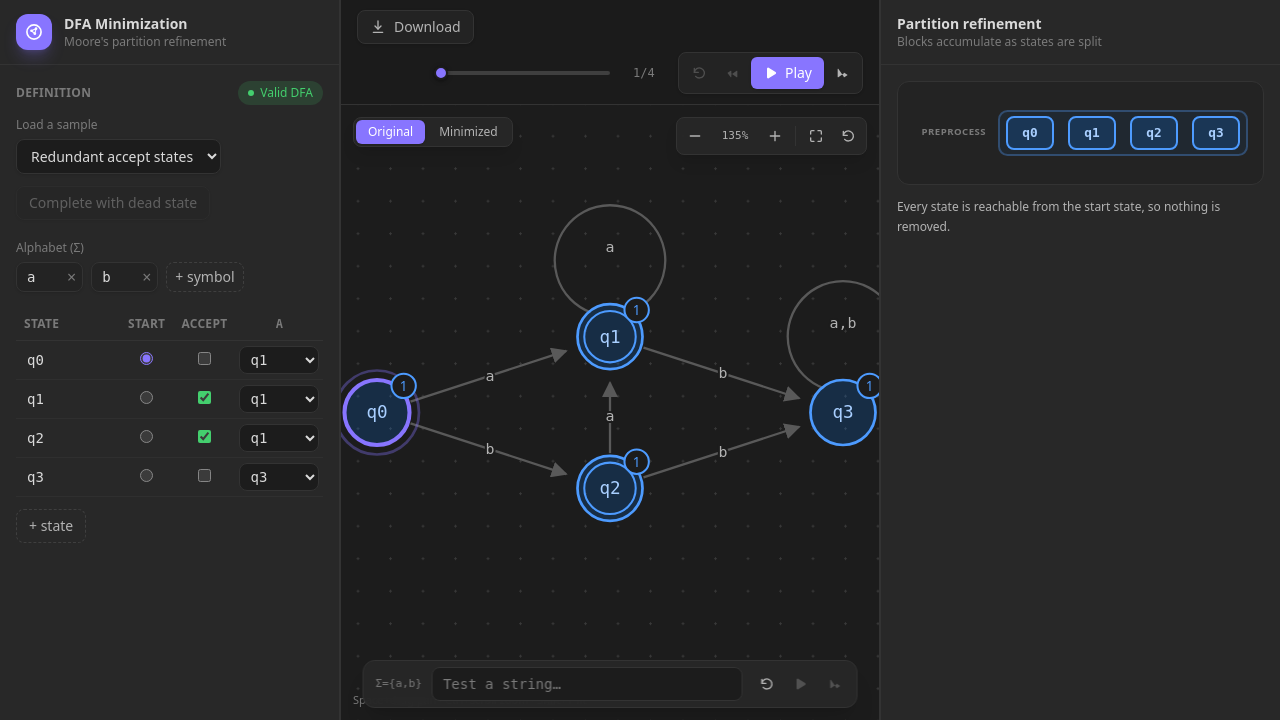
Test: App › switches the graph between the original and minimized DFA
Click the button "Minimized": click(468, 132) [427,120,510,144]
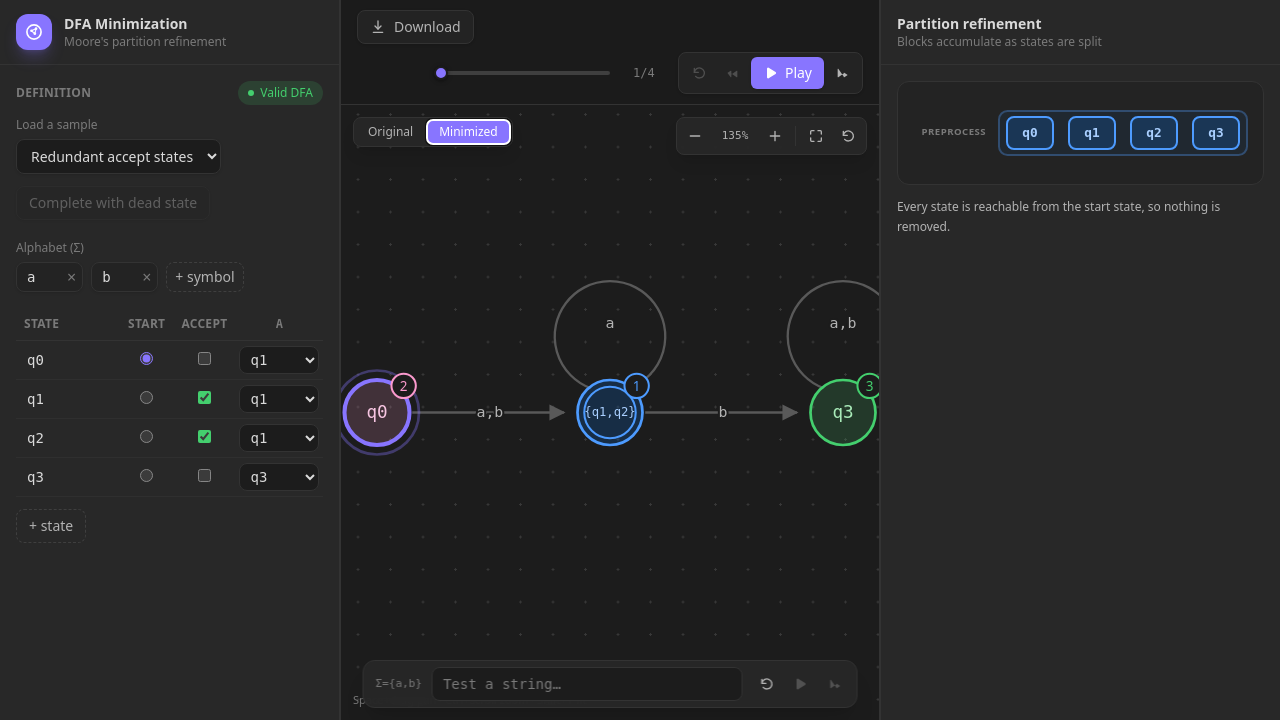
Result: the picture named "Minimized state diagram" is shown at [341,105,879,719]
